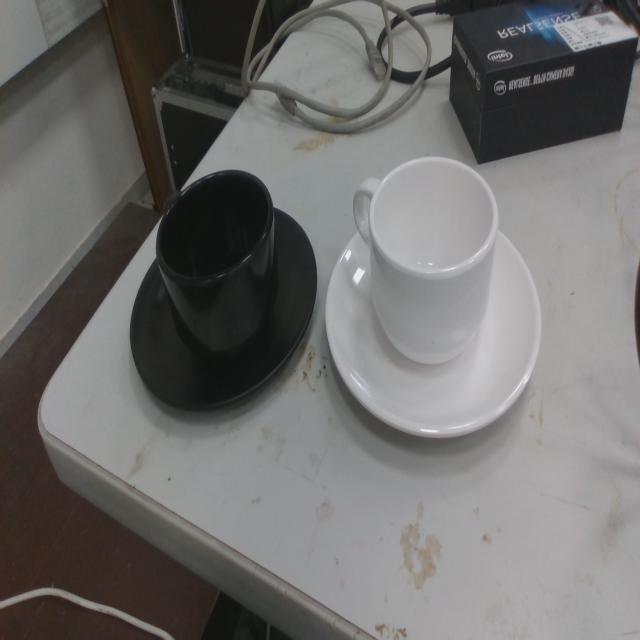black: (128, 167, 319, 421)
white: (322, 152, 544, 448)
